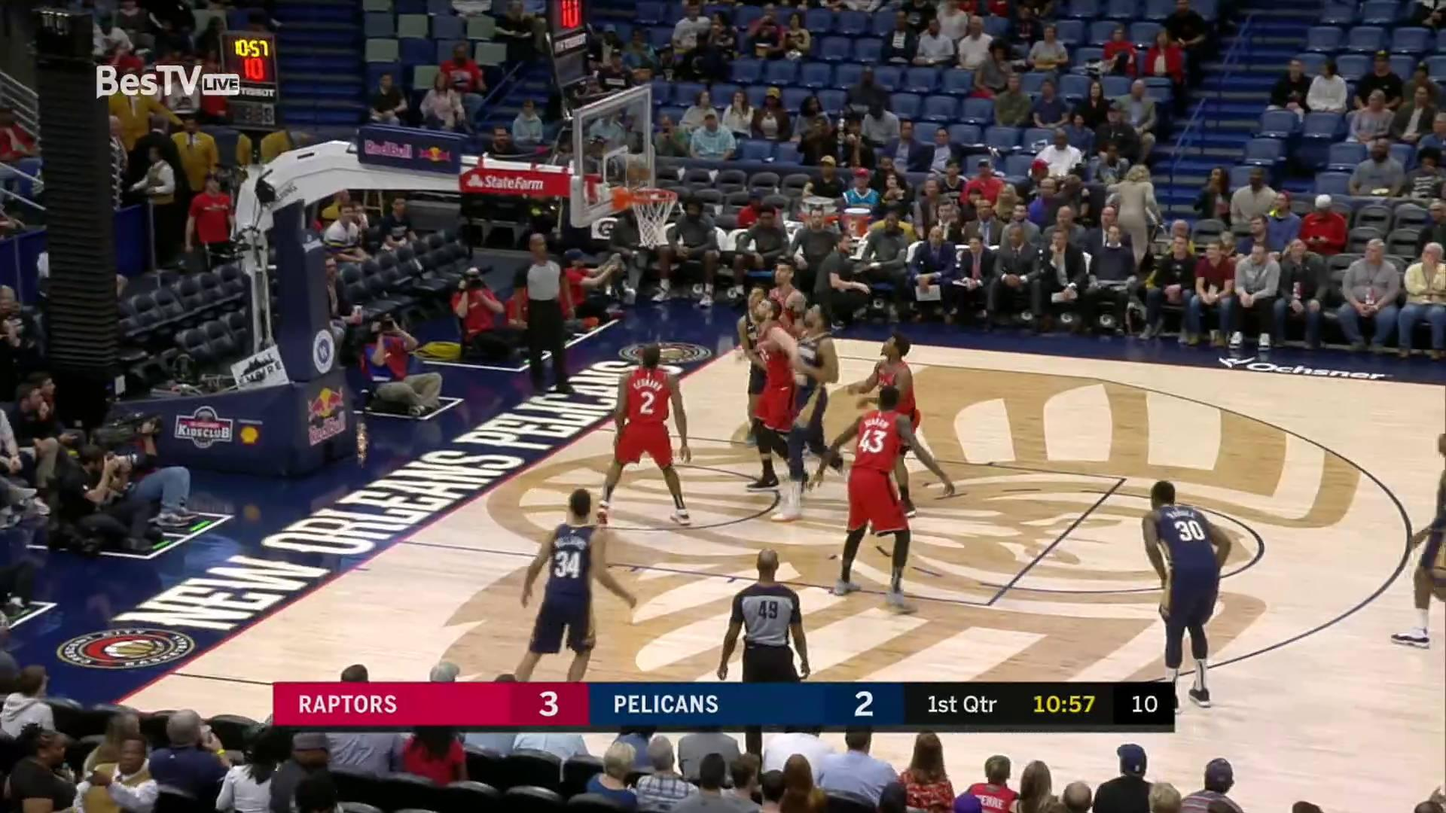basketball: (627, 154, 658, 191)
